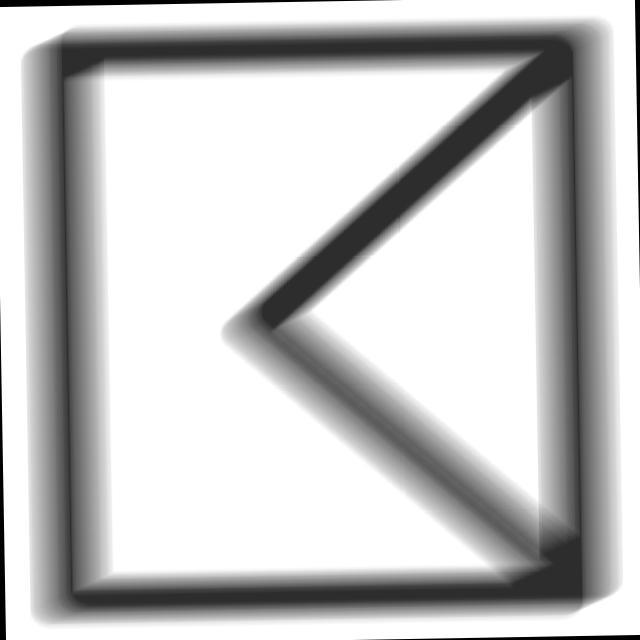letter: (7, 12, 634, 633)
